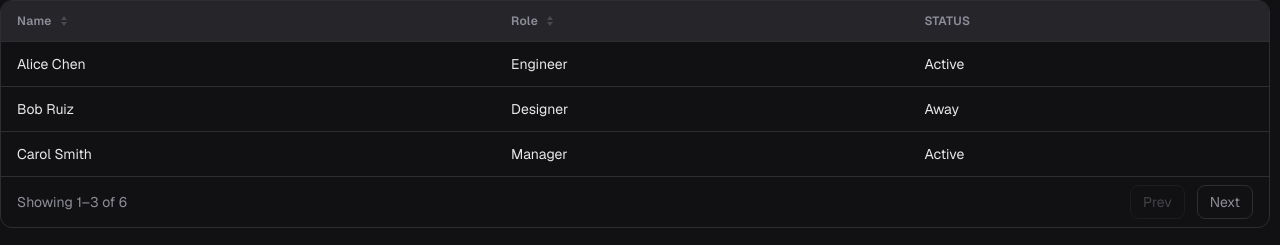
DataTable › pagination › navigates to next page on Next click
Step 1. Click the button with aria-label "go to next page" → (1225, 202), box x1=1197 y1=185 x2=1253 y2=219
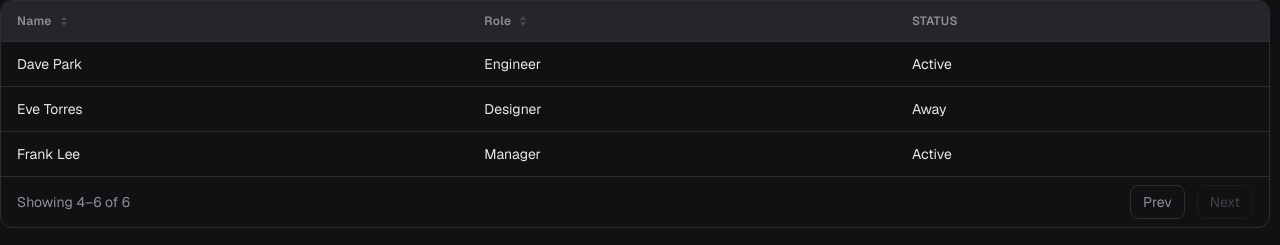
Now the text "Alice Chen" is gone
Now the text "Dave Park" is shown, box x1=1 y1=42 x2=468 y2=86
